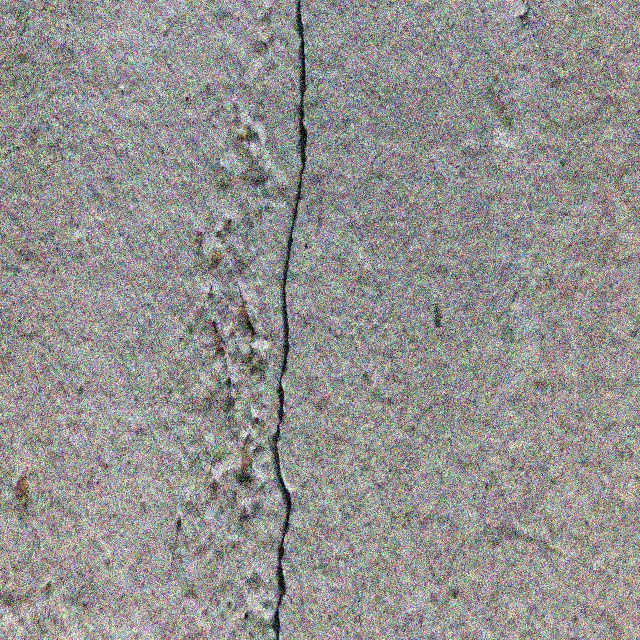SurfaceCrack: (224, 0, 359, 639)
